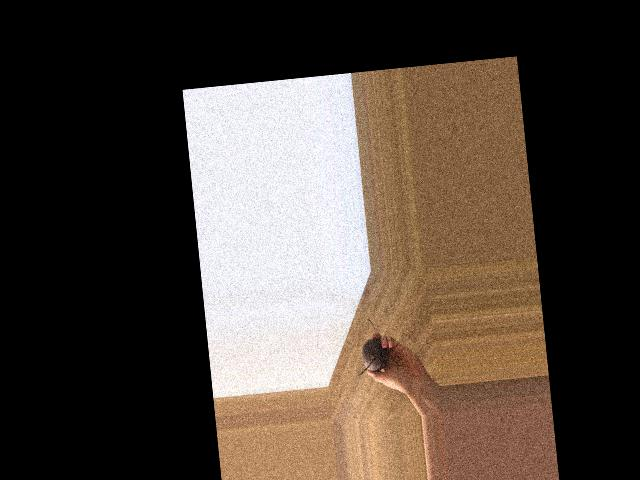beet: (352, 316, 389, 375)
